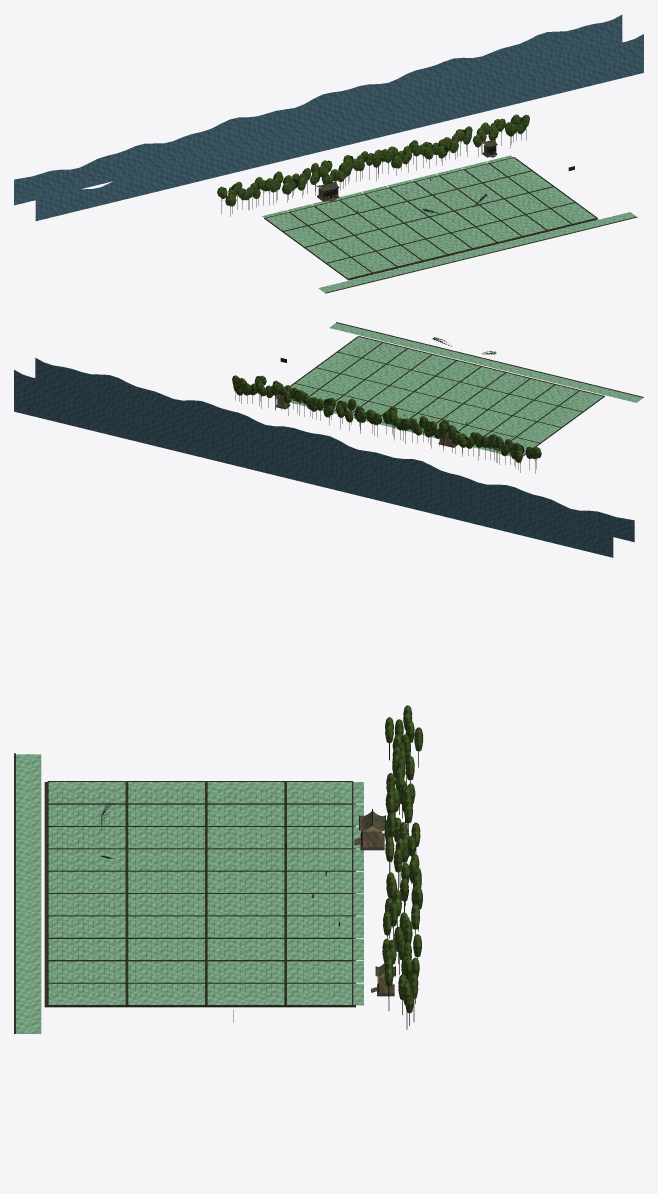
Rendered from JingXi_Aligned_Spring.glb.
3 views of the same model, one above another, from view 1: azimuth 30°, elevation 25°; view 2: azimuth 150°, elevation 25°; view 3: azimuth 270°, elevation 25° (orthographic). The views are drawn at different scales.
Visible parts, largest first — view 1: Spring_MountainRidge_mountain, Spring_PaddyWater_water, Spring_TreeCrowns_crown, Spring_YuquanCanal_water, Spring_FieldEarth_earth, Spring_CrossBanks_earth, Spring_FieldBanks_earth, Spring_Rice_Blades_light, Spring_TreeTrunks_wood, Spring_NearBank_earth, Spring_TreeCrowns_leaf; view 2: Spring_MountainRidge_mountain, Spring_PaddyWater_water, Spring_TreeCrowns_crown, Spring_YuquanCanal_water, Spring_FieldBanks_earth, Spring_CrossBanks_earth, Spring_FieldEarth_earth, Spring_TreeTrunks_wood, Spring_Rice_Blades_light, Spring_NearBank_earth, Spring_TreeCrowns_leaf; view 3: Spring_PaddyWater_water, Spring_TreeCrowns_crown, Spring_YuquanCanal_water, Spring_FieldBanks_earth, Spring_Rice_Blades_light, Spring_FieldEarth_earth, Spring_CrossBanks_earth, Spring_Rice_Blades_rice.
Boxes of the visible parts, x1=… form: Spring_MountainRidge_mountain: x1=14, y1=15, x2=643, y2=220; Spring_PaddyWater_water: x1=262, y1=155, x2=595, y2=278; Spring_TreeCrowns_crown: x1=217, y1=114, x2=529, y2=206; Spring_YuquanCanal_water: x1=318, y1=212, x2=636, y2=292; Spring_FieldEarth_earth: x1=264, y1=157, x2=598, y2=280; Spring_CrossBanks_earth: x1=265, y1=157, x2=596, y2=278; Spring_FieldBanks_earth: x1=264, y1=157, x2=597, y2=279; Spring_Rice_Blades_light: x1=286, y1=164, x2=585, y2=274; Spring_TreeTrunks_wood: x1=221, y1=129, x2=526, y2=216; Spring_NearBank_earth: x1=325, y1=217, x2=637, y2=293; Spring_TreeCrowns_leaf: x1=224, y1=117, x2=524, y2=205; Spring_MountainRidge_mountain: x1=14, y1=358, x2=634, y2=557; Spring_PaddyWater_water: x1=274, y1=337, x2=602, y2=456; Spring_TreeCrowns_crown: x1=232, y1=375, x2=541, y2=462; Spring_YuquanCanal_water: x1=329, y1=323, x2=643, y2=402; Spring_FieldBanks_earth: x1=290, y1=336, x2=604, y2=455; Spring_CrossBanks_earth: x1=291, y1=336, x2=603, y2=453; Spring_FieldEarth_earth: x1=291, y1=336, x2=604, y2=456; Spring_TreeTrunks_wood: x1=235, y1=390, x2=536, y2=473; Spring_Rice_Blades_light: x1=301, y1=342, x2=593, y2=438; Spring_NearBank_earth: x1=336, y1=322, x2=643, y2=397; Spring_TreeCrowns_leaf: x1=235, y1=376, x2=541, y2=458; Spring_PaddyWater_water: x1=48, y1=782, x2=363, y2=1005; Spring_TreeCrowns_crown: x1=382, y1=705, x2=423, y2=1013; Spring_YuquanCanal_water: x1=16, y1=754, x2=41, y2=1033; Spring_FieldBanks_earth: x1=48, y1=781, x2=352, y2=1006; Spring_Rice_Blades_light: x1=51, y1=789, x2=345, y2=995; Spring_FieldEarth_earth: x1=44, y1=782, x2=355, y2=1007; Spring_CrossBanks_earth: x1=47, y1=781, x2=353, y2=1005; Spring_Rice_Blades_rice: x1=51, y1=789, x2=345, y2=995.
Size of the model in its own units: 195 by 13.26 by 95.15.
Materials: 15 (15 with a texture image).
